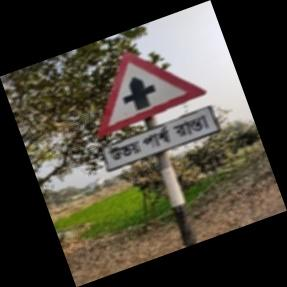Crossroad: (94, 51, 216, 181)
